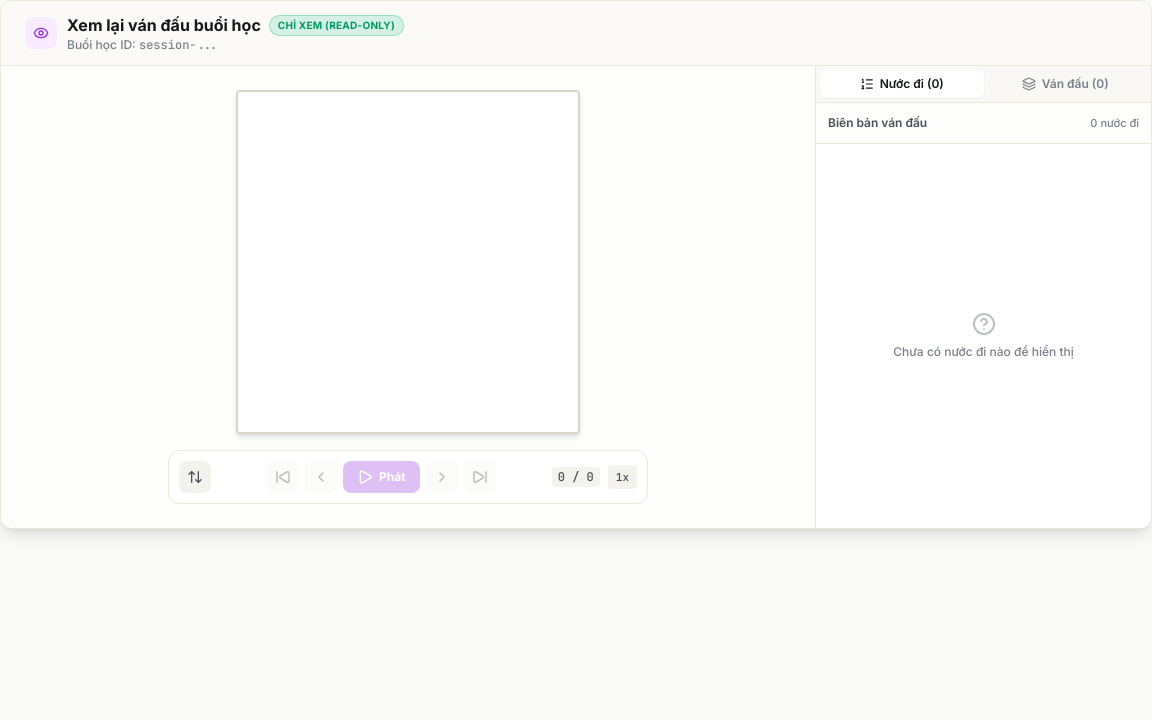
Scenario: TASK 9.3 — Session Chess Game Replay UI › 1. Session game list (loading, empty, success, error) › displays persisted games with available metadata (players, result, scope, completion time)
Click the button with test id "replay-tab-games" at point(1065, 84), box [984,70,1147,98]
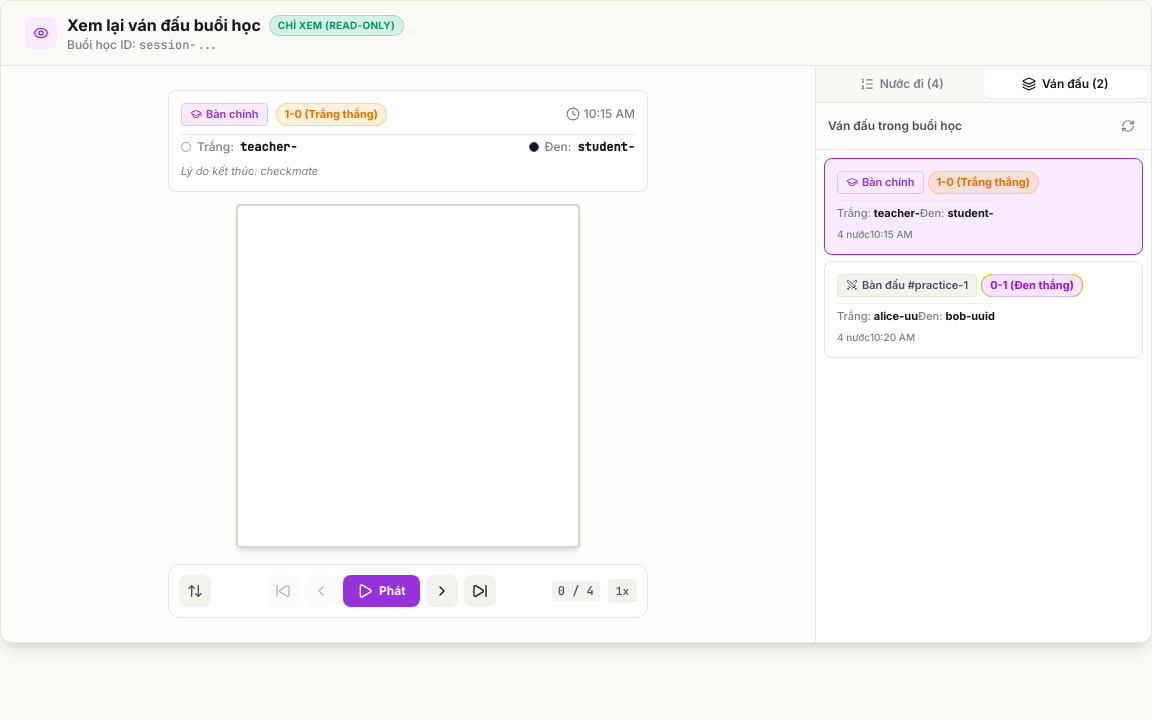
Check: the button with test id "replay-game-card-game-1" shows "Bàn chính", box [824,158,1143,255]
Check: the button with test id "replay-game-card-game-1" shows "1-0 (Trắng thắng)", box [824,158,1143,255]
Check: the button with test id "replay-game-card-game-1" shows "teacher-", box [824,158,1143,255]
